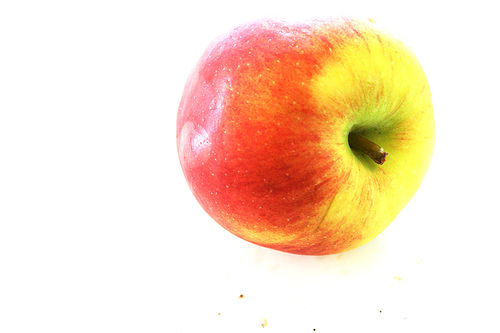apple: (172, 13, 436, 257)
